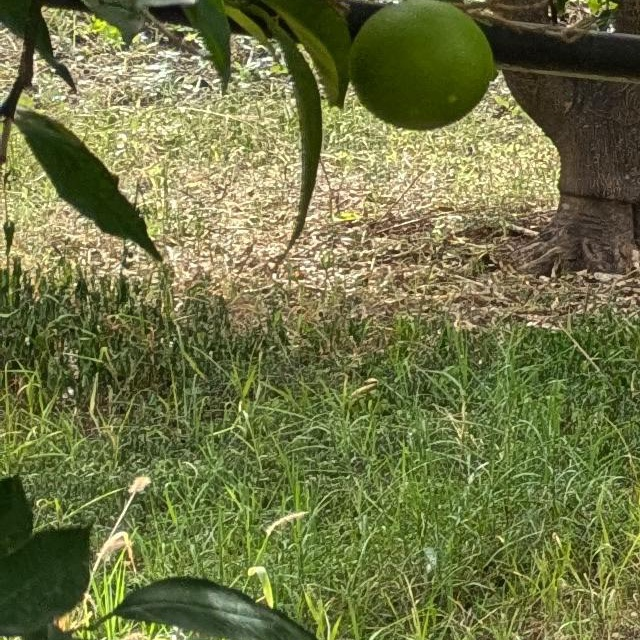orange: (360, 0, 500, 139)
